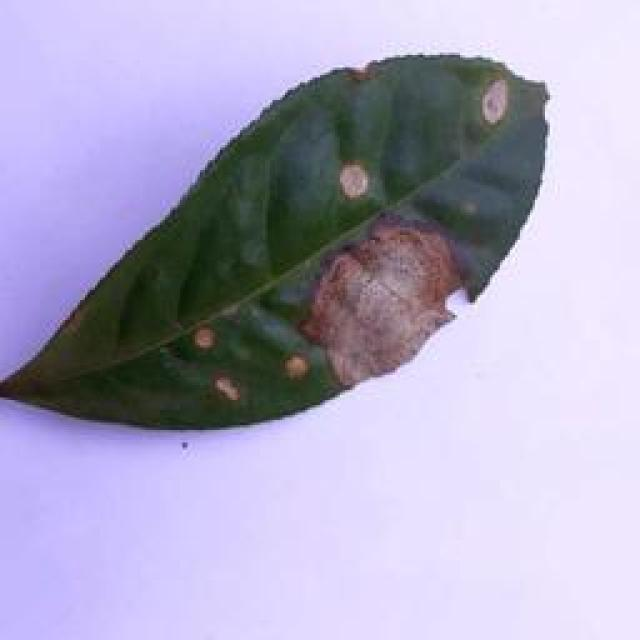Gray Blight: (4, 53, 552, 437)
